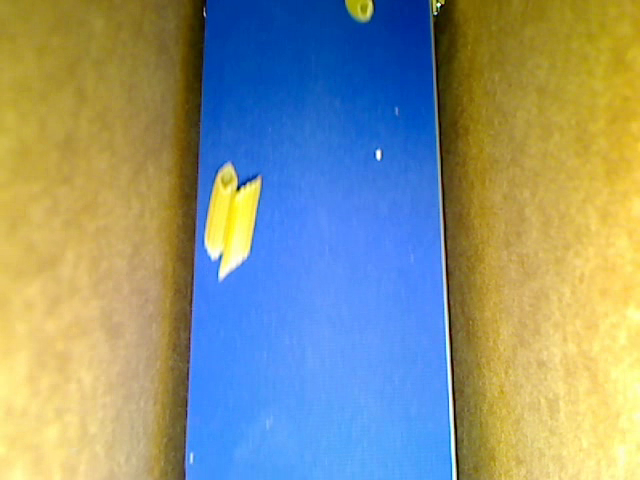elbow: (344, 1, 374, 23)
penne: (216, 176, 262, 282), (203, 161, 240, 262)
